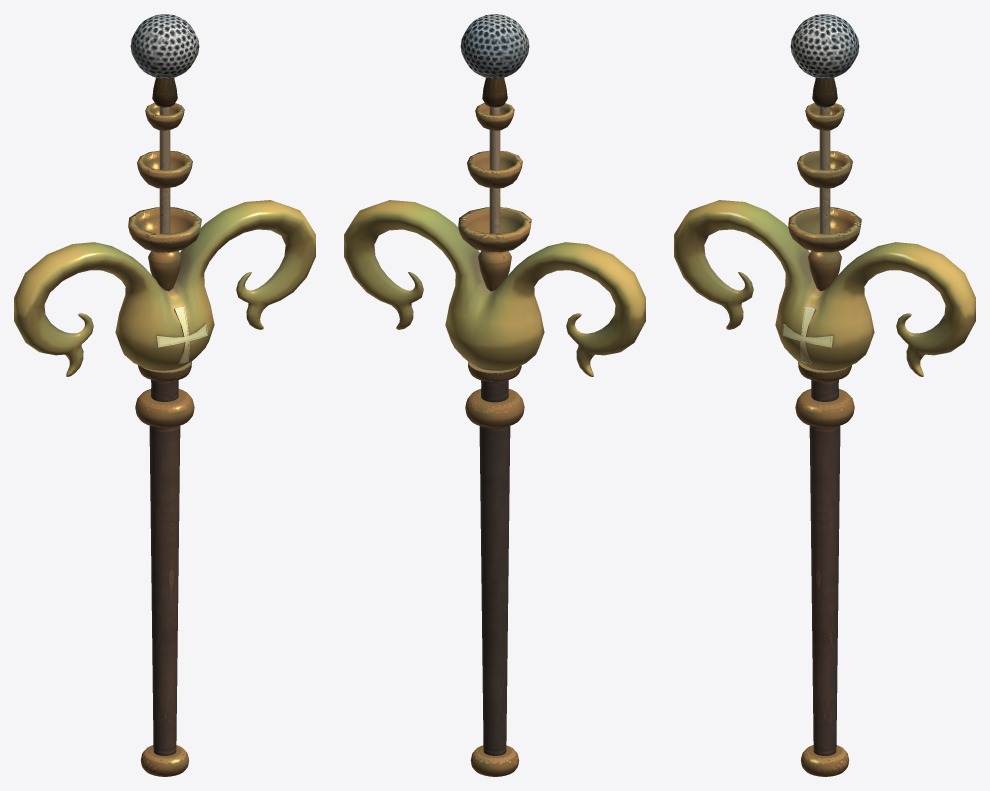
File: Tool.fbx
3 views of the same model, side by side, from view 1: azimuth 30°, elevation 25°; view 2: azimuth 150°, elevation 25°; view 3: azimuth 330°, elevation 25° (orthographic).
Parts seen in each view (by area): view 1: Tool; view 2: Tool; view 3: Tool.
Part boxes in pixels (bbox=[...]): Tool: bbox=[14, 14, 315, 776]; Tool: bbox=[344, 14, 645, 776]; Tool: bbox=[674, 14, 975, 776].
Size of the model in its own units: 19.49 by 47.31 by 5.06.
